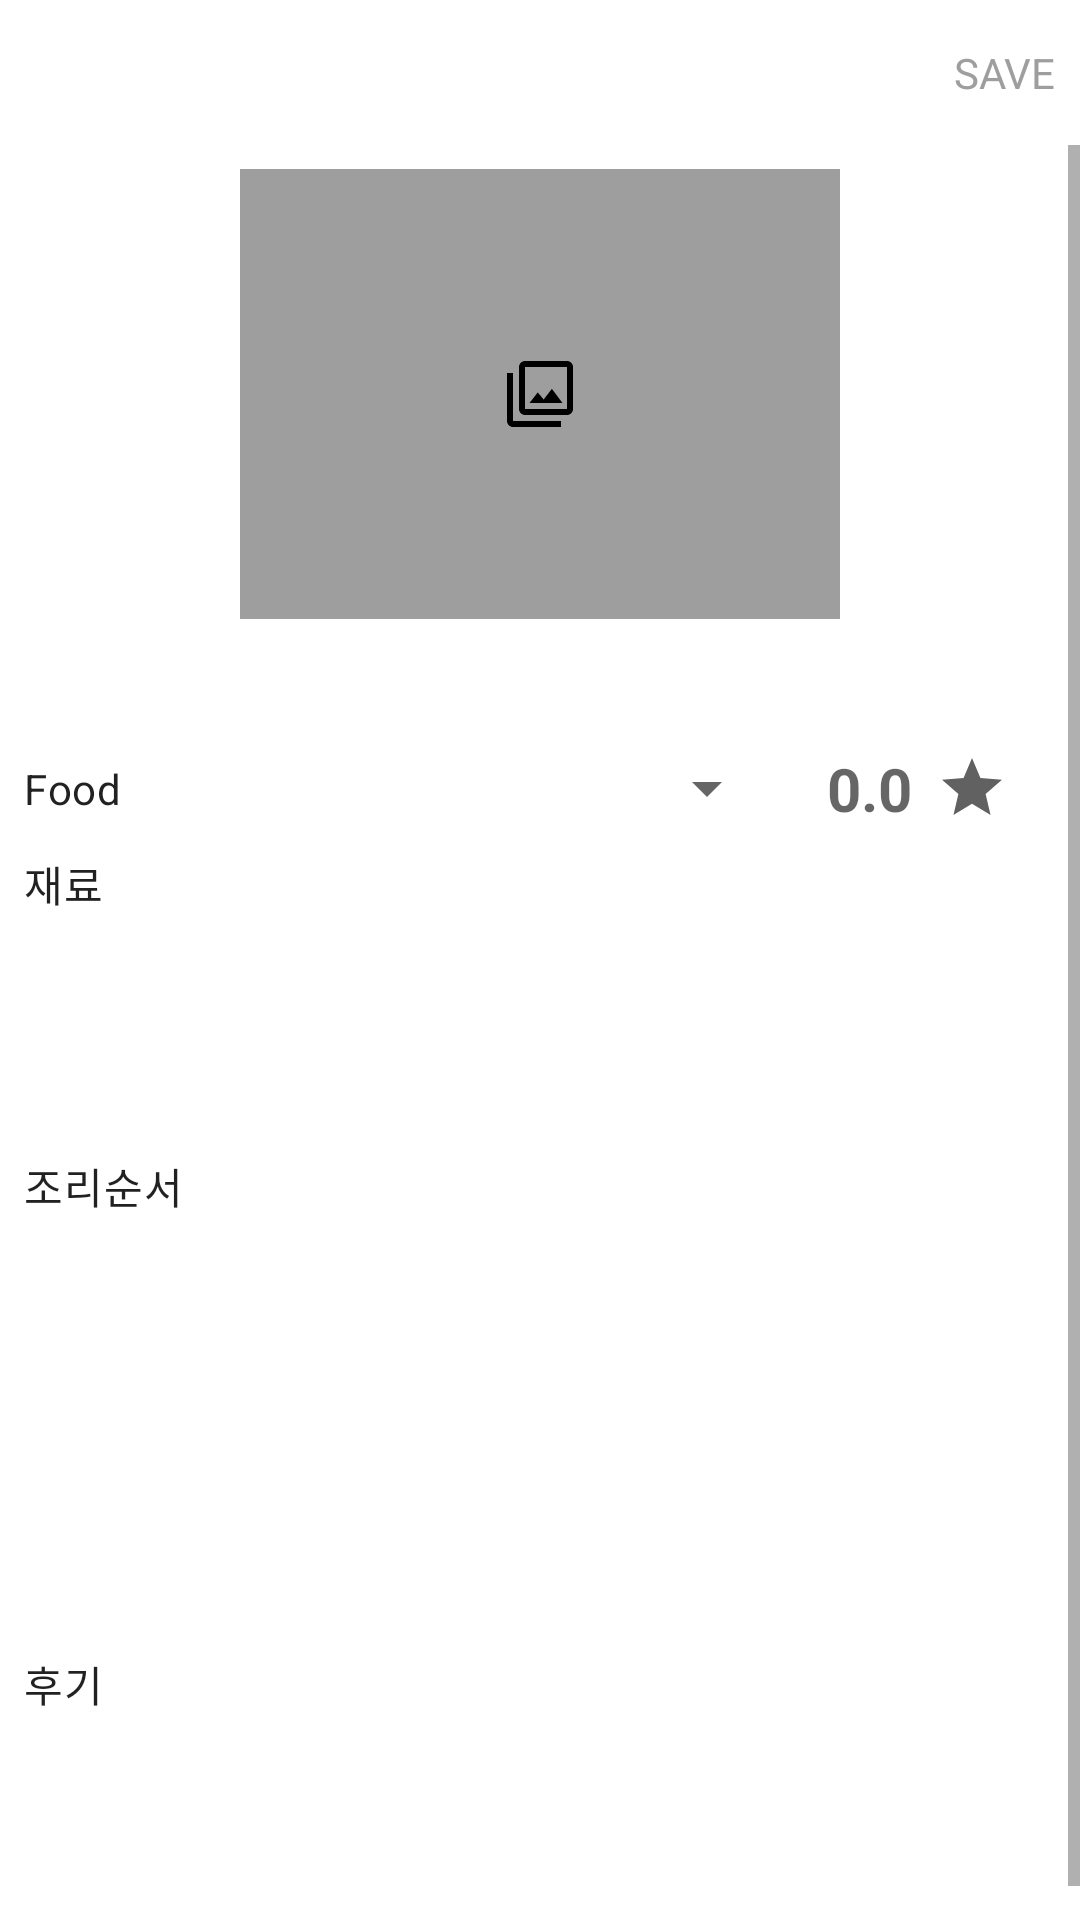

Locate icon controls on the screen. Image size 1080px x 1920px, boxes as (x1, y1, x2, y2).
star: (942, 758, 1002, 815)
